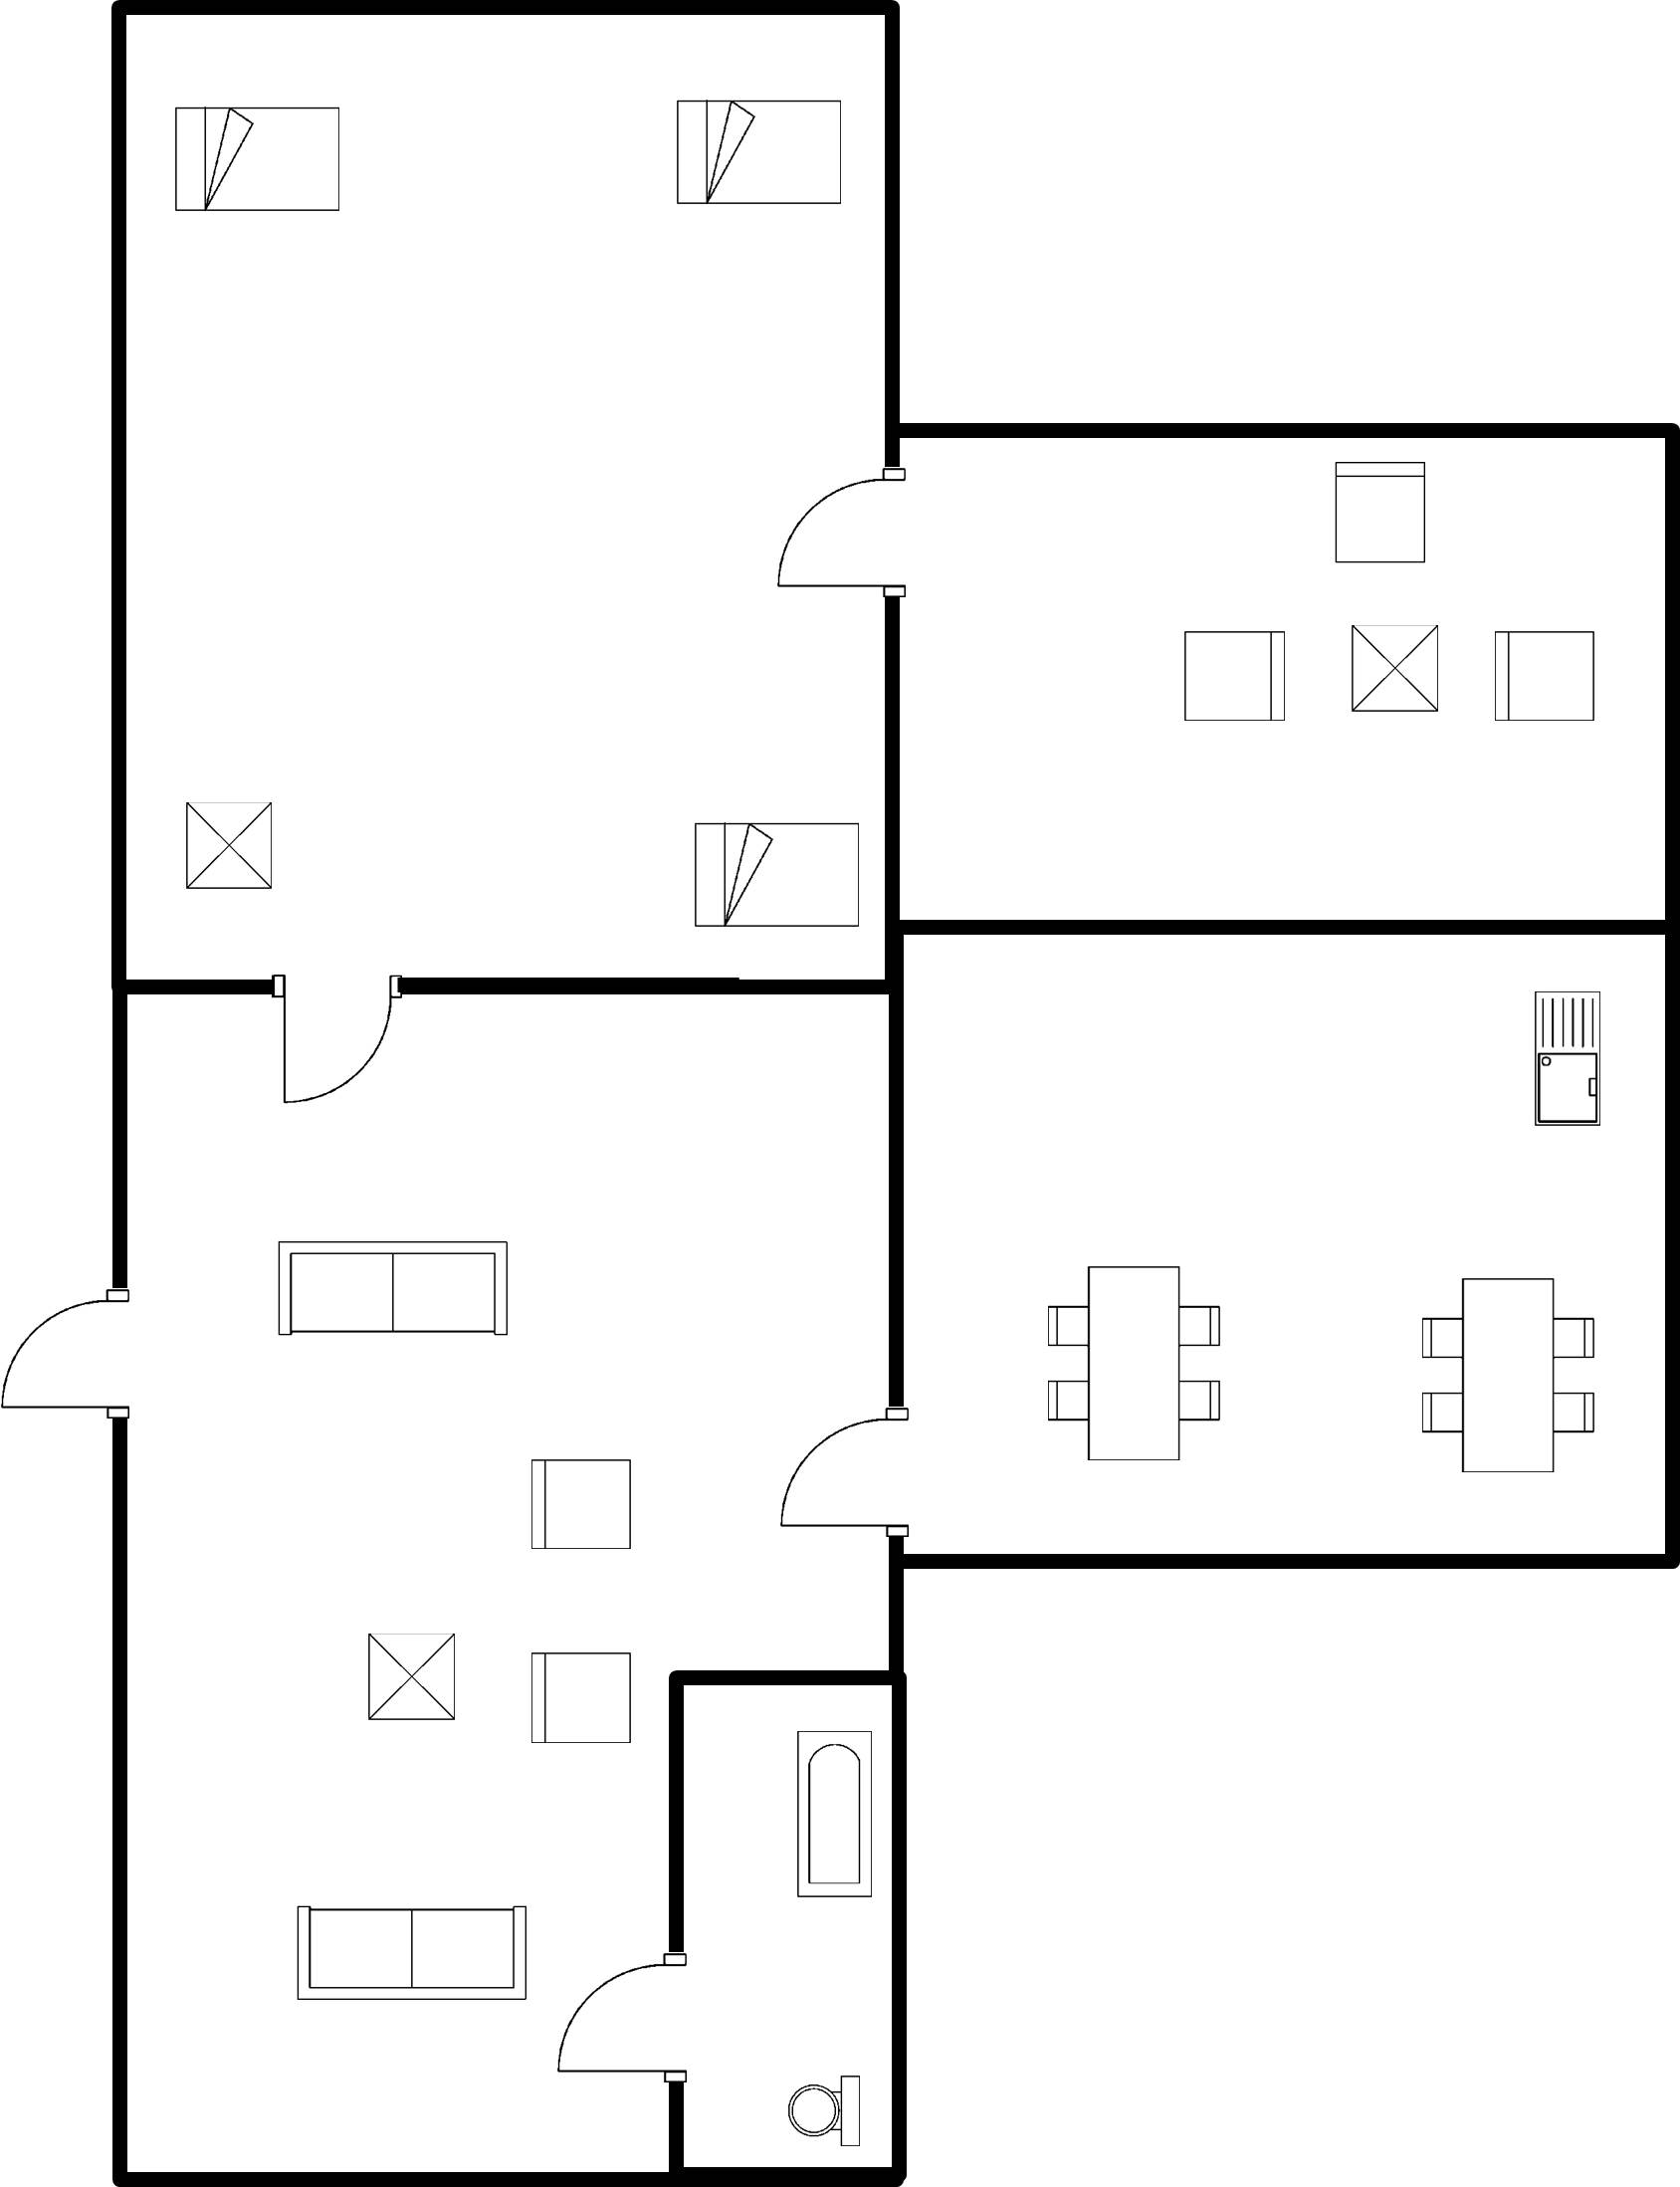bed: (657, 83, 858, 221), (159, 93, 358, 227), (679, 811, 869, 948)
coffee_table: (166, 787, 287, 902), (354, 1615, 467, 1735), (1337, 610, 1449, 730)
dining_table: (1023, 1240, 1237, 1476), (1397, 1266, 1611, 1489)
large_sink: (774, 2063, 887, 2157)
large_sofa: (279, 1893, 544, 2019), (266, 1220, 517, 1350)
sink: (1521, 976, 1613, 1138)
small_sofa: (515, 1439, 644, 1567), (1317, 450, 1442, 577), (1167, 614, 1295, 738), (1479, 619, 1609, 734), (521, 1642, 646, 1757)
tub: (784, 1714, 889, 1913)
